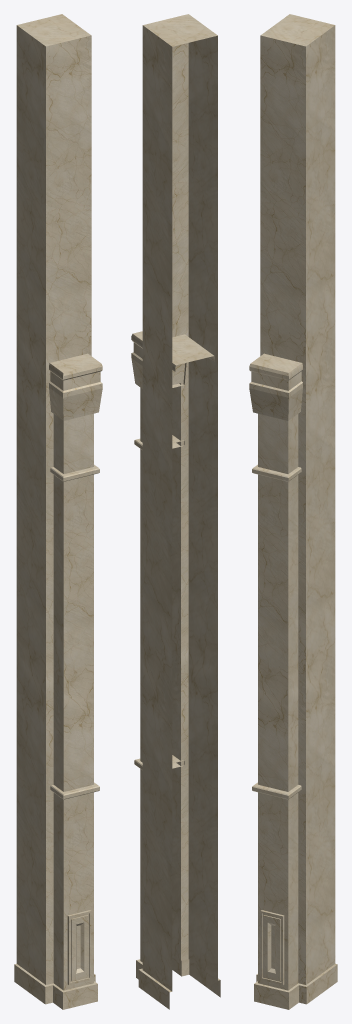
3 renders of one model, left to right at view 1: azimuth 30°, elevation 25°; view 2: azimuth 210°, elevation 25°; view 3: azimuth 330°, elevation 25°, orthographic.
Parts seen in each view (by area): view 1: M_W_201_c_05x9; view 2: M_W_201_c_05x9; view 3: M_W_201_c_05x9.
Part boxes in pixels (left/top/right/bottom): M_W_201_c_05x9: left=14, top=14, right=102, bottom=1009; M_W_201_c_05x9: left=131, top=14, right=220, bottom=1009; M_W_201_c_05x9: left=249, top=14, right=337, bottom=1009.
Size of the model in its own units: 0.498 by 9.03 by 0.7445.
